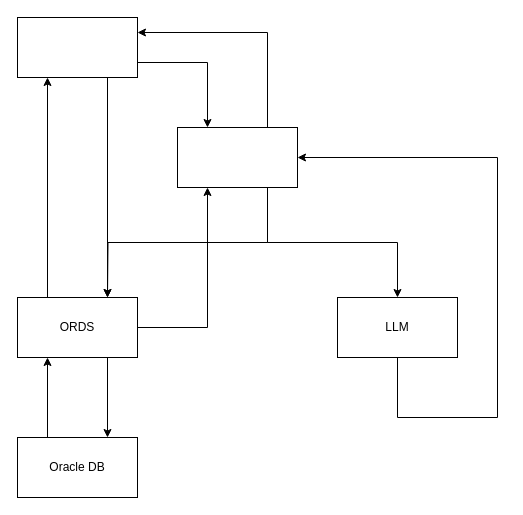
Some shapes in this 523 by 515 pixel diagram are drawn without their labels. Each missing label, with the centre of its shape:
"Frontend React-TS" belongs at point 77,47.
"Python Flask" belongs at point 237,157.
